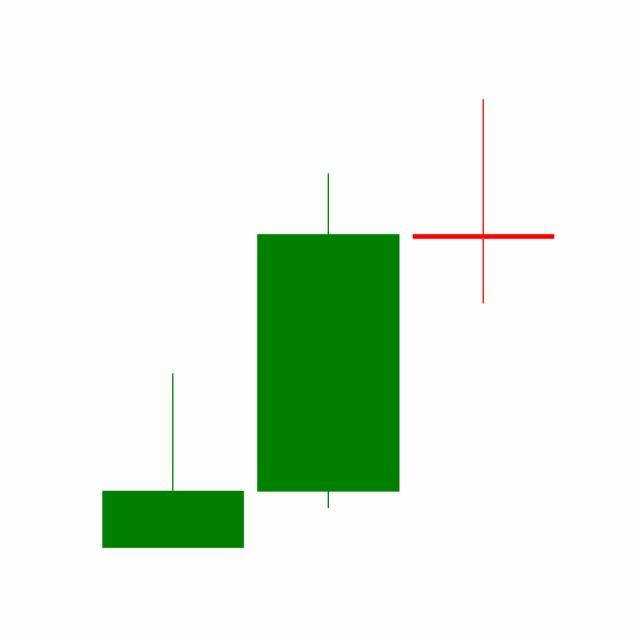Marubozu: (249, 169, 406, 512)
